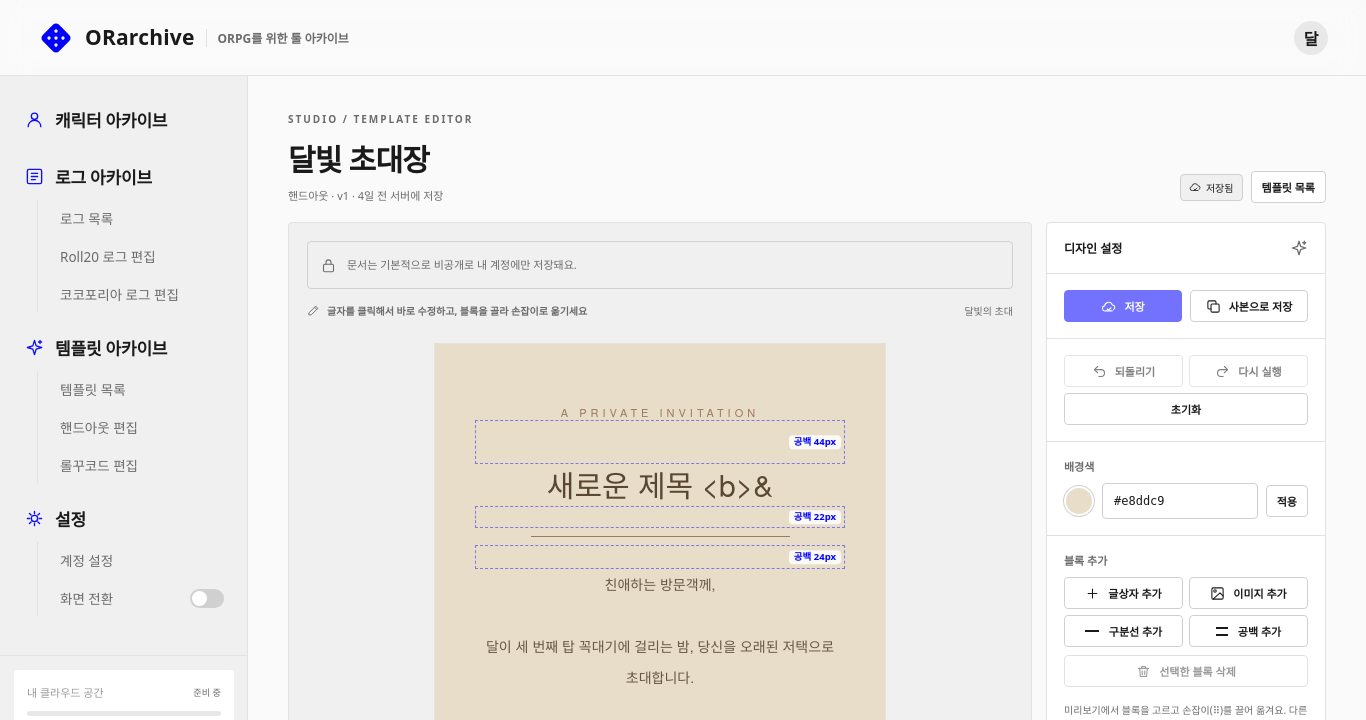
Test: 핸드아웃 스튜디오 — 캔버스 직접 편집 › 입력하면 useDocument 초안이 바뀌고(저장 중 → 저장됨) 편집 중인 요소는 다시 만들어지지 않는다
The image size is (1366, 720).
Step 1. Clear the field labelled "새로운 제목 <b>&" → x=660, y=485, box top-left (547, 463), bottom-right (773, 506)
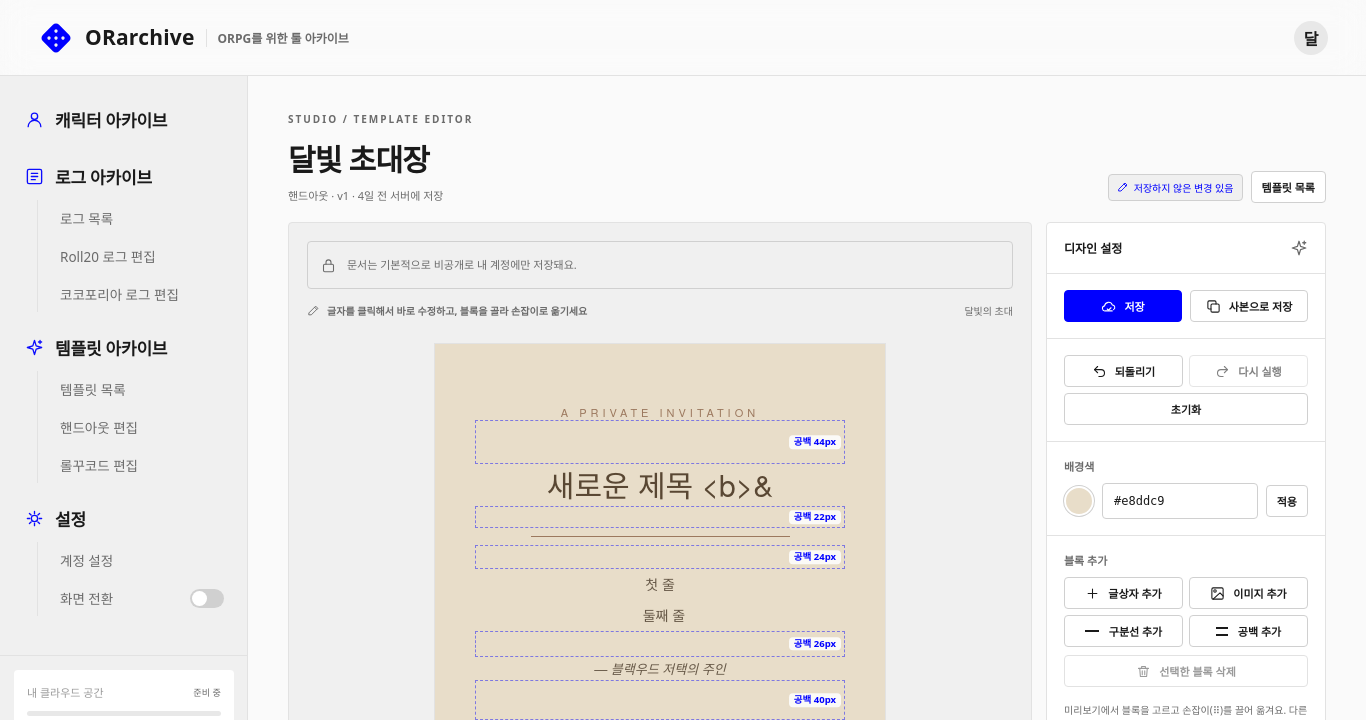
Expected: the message "저장하지 않은 변경 있음" is shown, top-left (1108, 174), bottom-right (1242, 200)
Step 2. Click the button "저장" → x=1123, y=306, box top-left (1064, 290), bottom-right (1182, 322)
Wait 800 ms
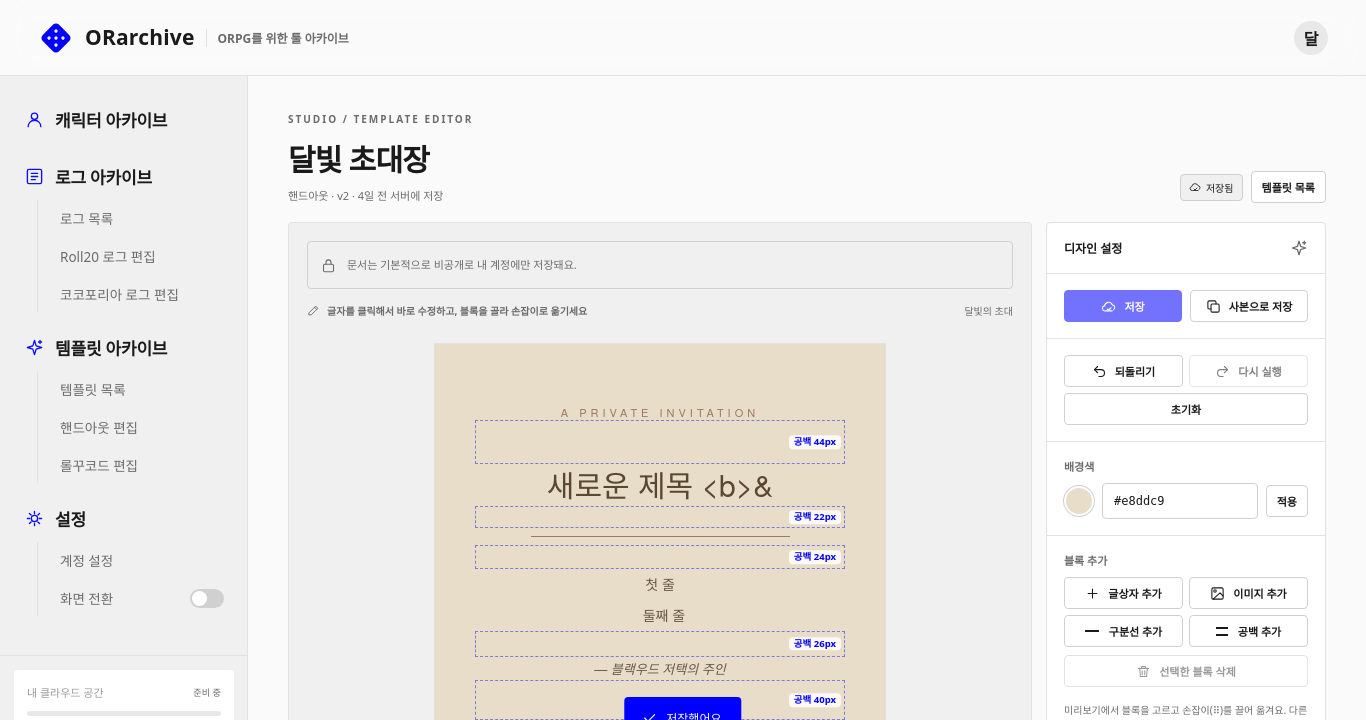
Expected: the message "저장됨" is shown, top-left (1180, 174), bottom-right (1242, 200)
